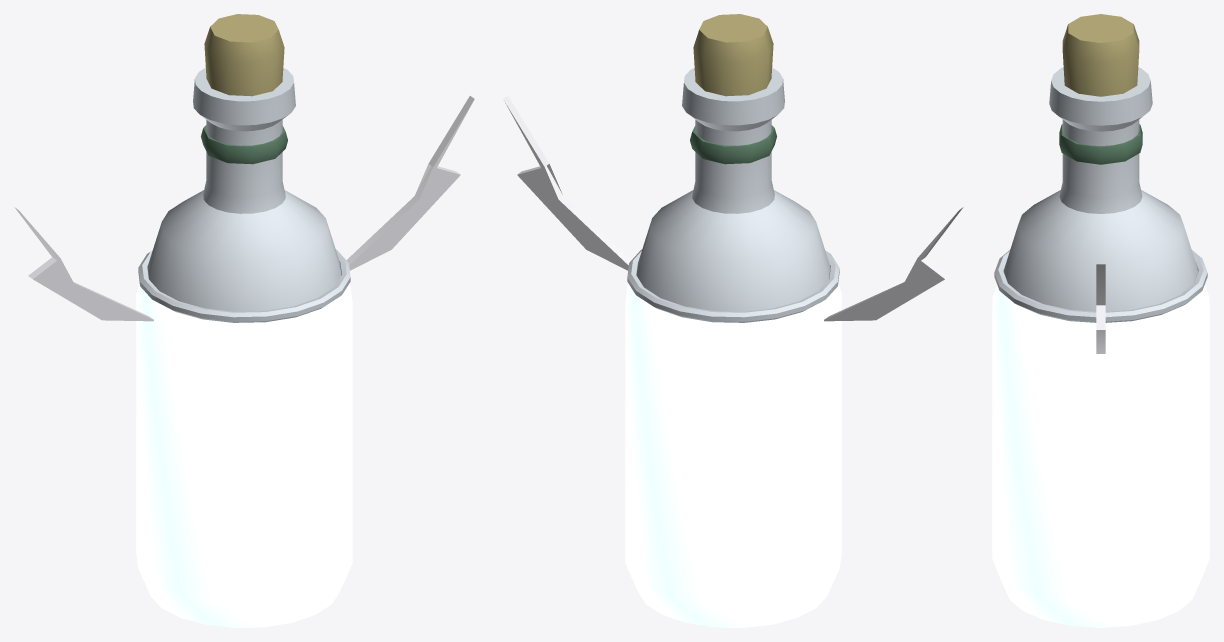
File: windstep_tonic.glb
3 views of the same model, side by side, from view 1: azimuth 30°, elevation 25°; view 2: azimuth 150°, elevation 25°; view 3: azimuth 270°, elevation 25° (orthographic).
Visible parts, largest first — view 1: swiftfoot_tonic; view 2: swiftfoot_tonic; view 3: swiftfoot_tonic.
Part boxes in pixels (left/top/right/bottom): swiftfoot_tonic: left=14, top=14, right=474, bottom=627; swiftfoot_tonic: left=503, top=14, right=963, bottom=627; swiftfoot_tonic: left=992, top=14, right=1209, bottom=627.
Size of the model in its own units: 0.1646 by 0.193 by 0.068.
